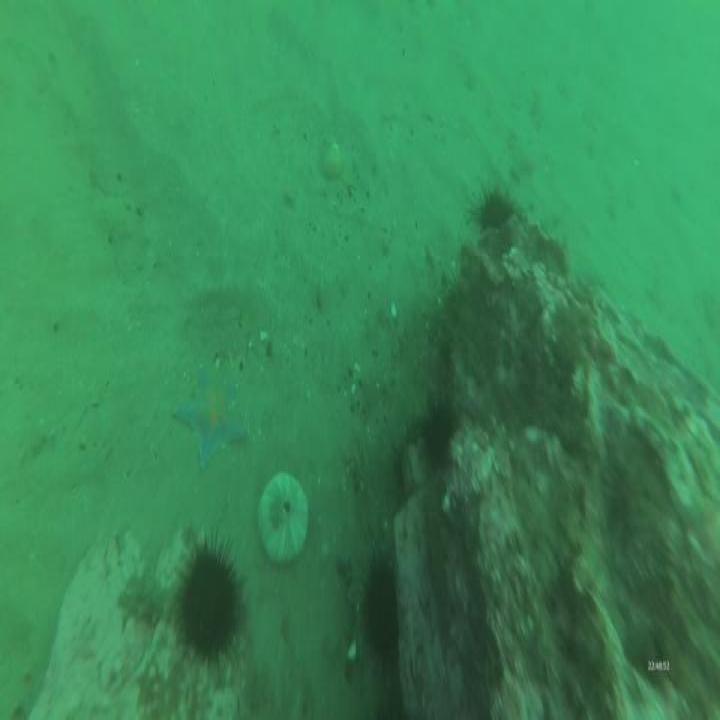echinus: (171, 537, 250, 675), (353, 555, 405, 665), (416, 382, 461, 476), (468, 172, 521, 240)
starfish: (170, 359, 254, 471)
